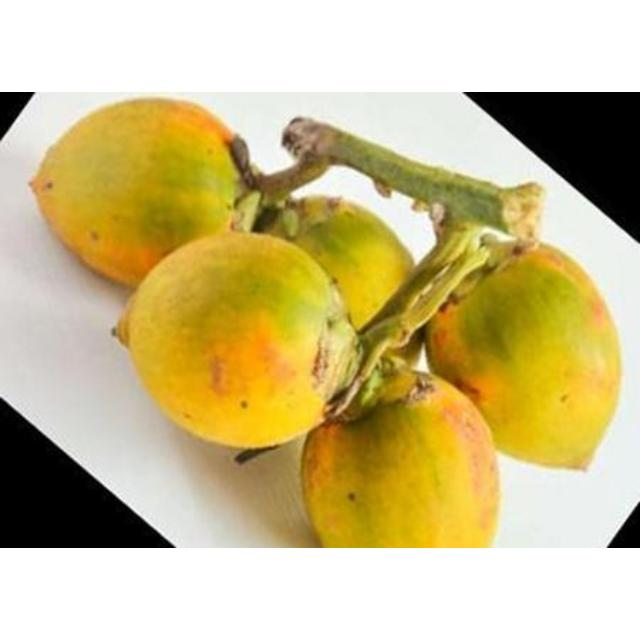good: (120, 231, 346, 449), (426, 240, 618, 472), (29, 97, 250, 287), (302, 371, 500, 547), (260, 196, 410, 332)
